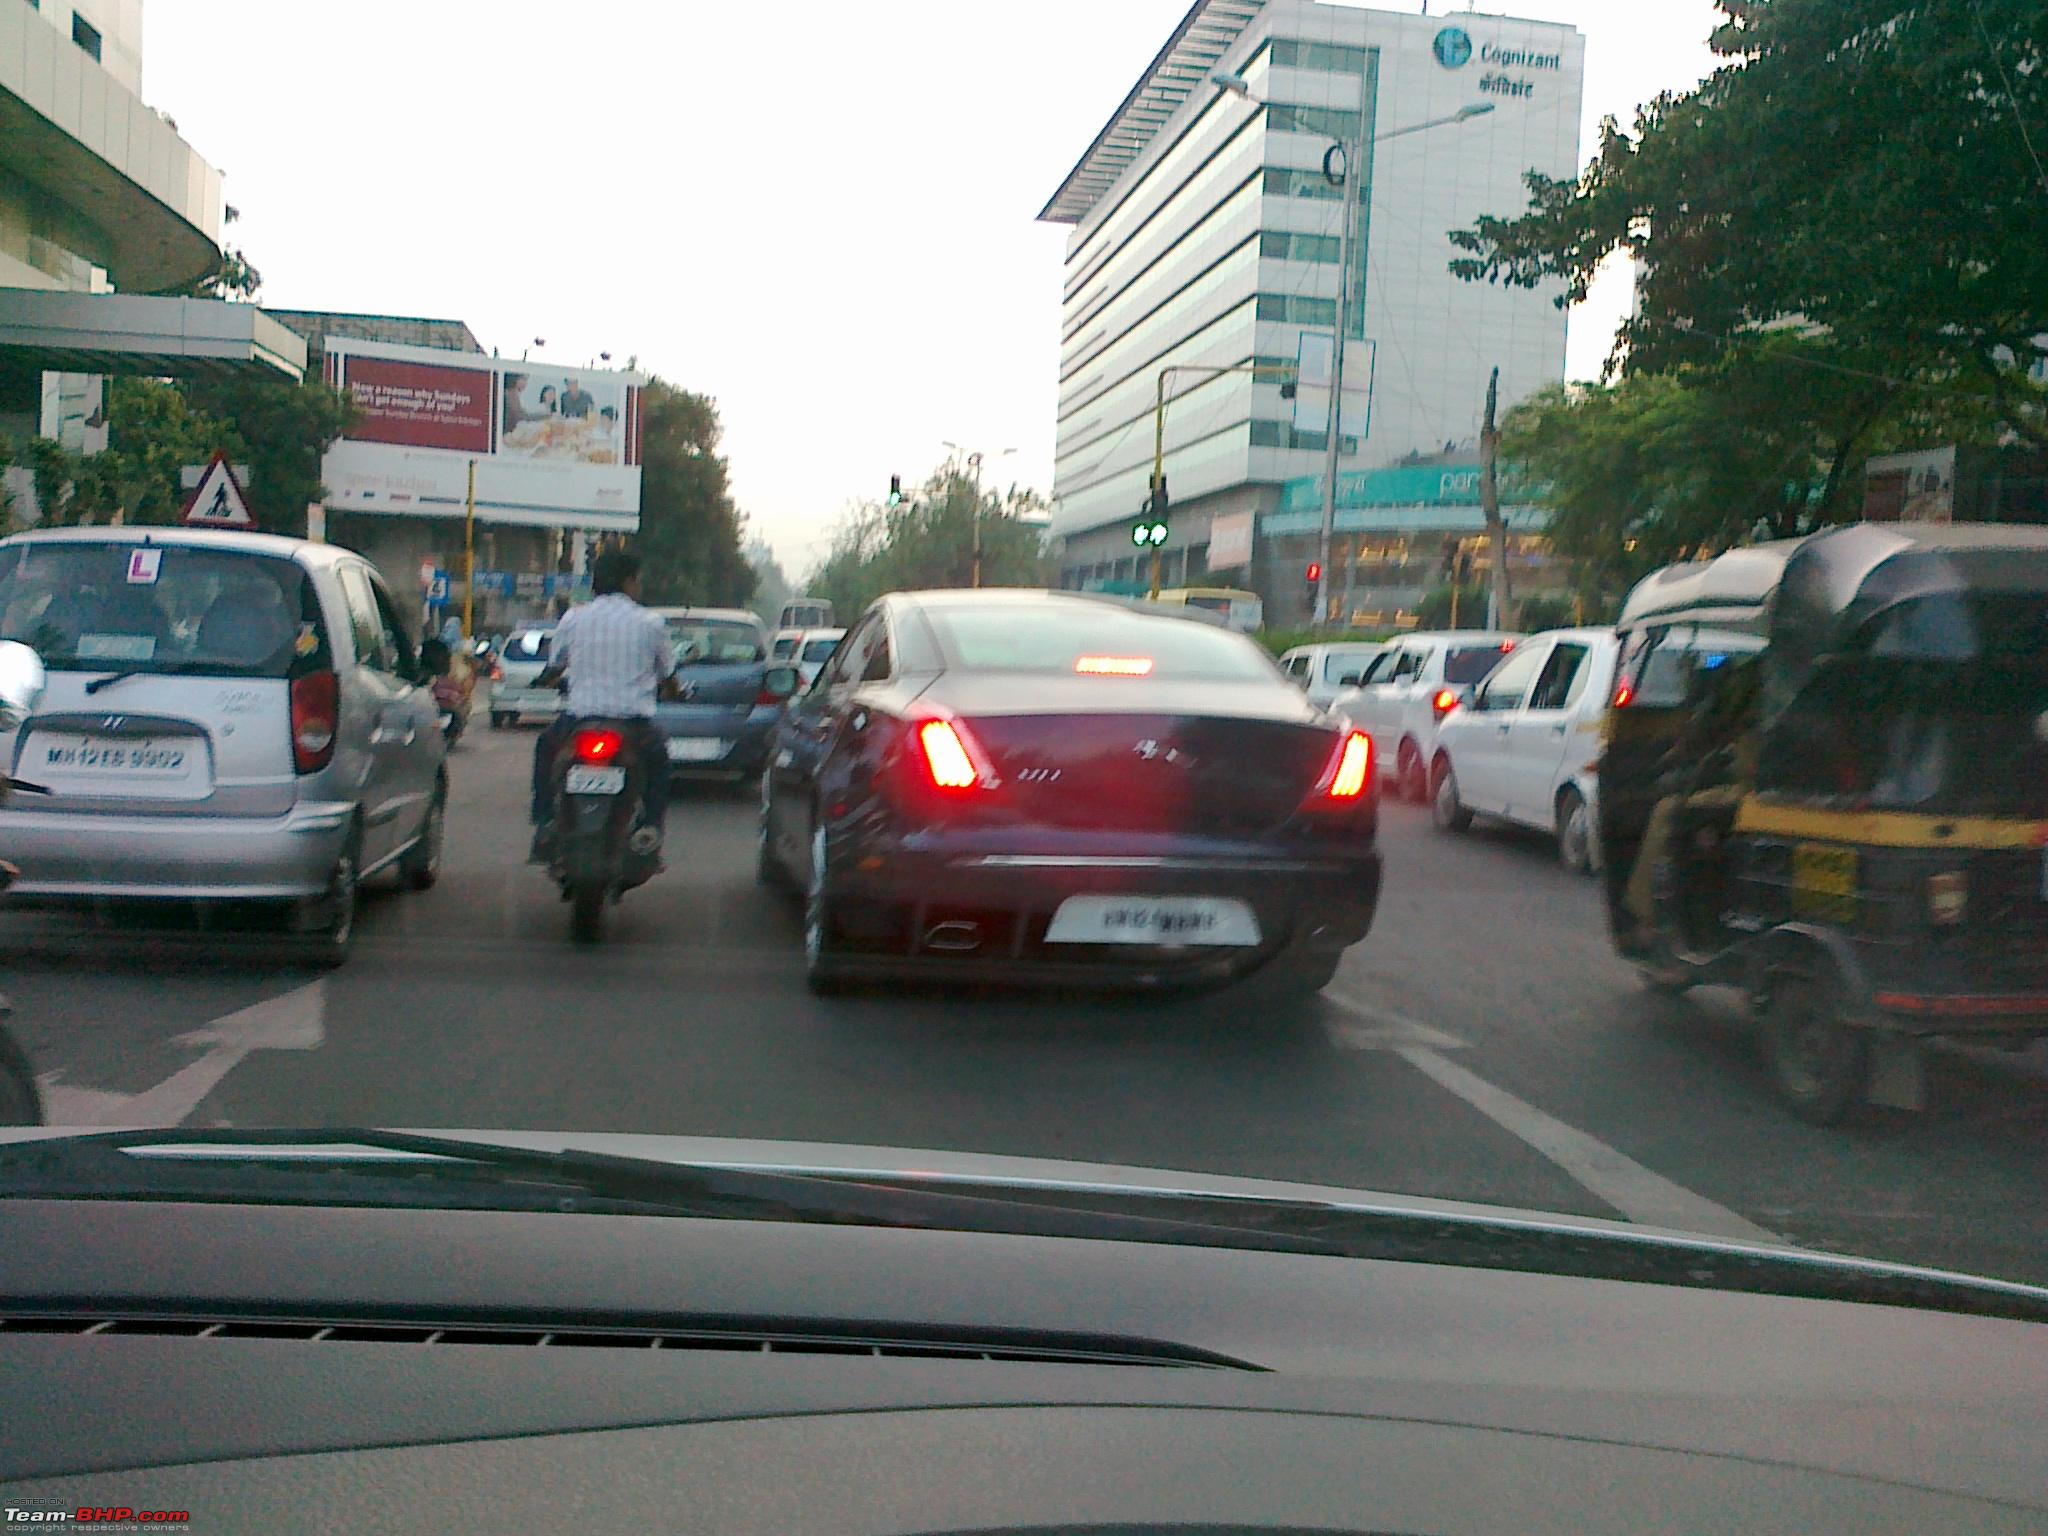autorickshaw: (1588, 511, 2048, 1139)
car: (739, 574, 1422, 1104), (2, 507, 484, 1000), (1421, 616, 1609, 884), (1355, 610, 1480, 803)
